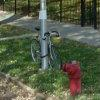Hydrant: (57, 56, 91, 100)
